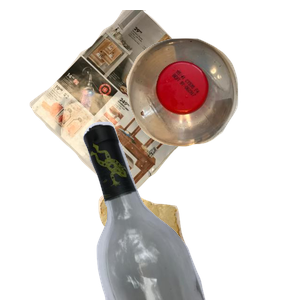glass: (81, 120, 300, 300)
paper: (27, 10, 230, 190)
plastic: (124, 36, 300, 175)
trash: (96, 181, 277, 300)
